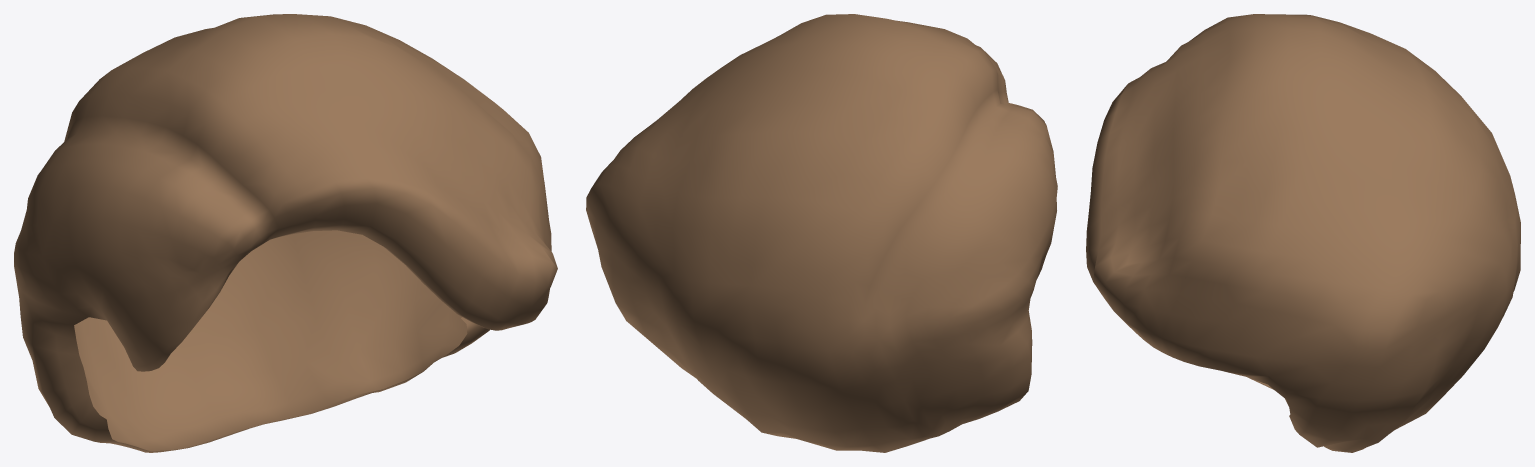
The model's file is Girl Hair 02.glb.
The picture shows the model from 3 angles, left to right: view 1: azimuth 30°, elevation 25°; view 2: azimuth 150°, elevation 25°; view 3: azimuth 270°, elevation 25°; orthographic projection. The views are drawn at different scales.
Parts seen in each view (by area): view 1: GirlHair2; view 2: GirlHair2; view 3: GirlHair2.
Part boxes in pixels (x1,y1,x2,y2): GirlHair2: (14,14,557,452); GirlHair2: (586,14,1057,452); GirlHair2: (1086,14,1520,452).
Bounding box in the file's own units: 0.012 × 0.0102 × 0.0106.
